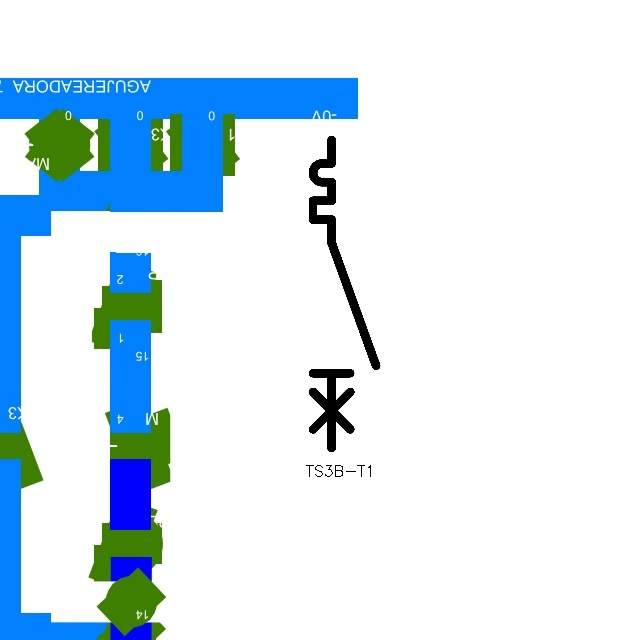interruptor_termomagnetico: (305, 132, 384, 456)
